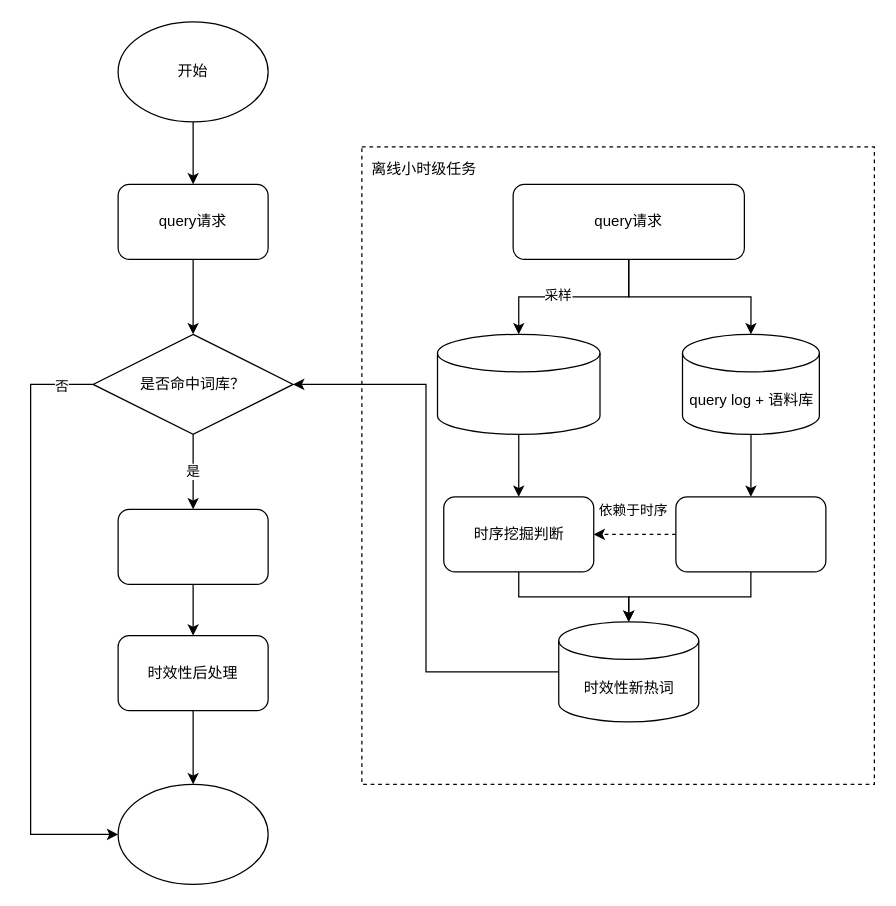
Image size: 896x906. Some labels were removed from this diagram. The shapes that lost their labels are listed below. From the top down, each one's centre as x and y in pixels, then its label:
At (518,383): "Redis {query+timestamp: count} {query set}".
At (192,546): "时效性通道".
At (750,534): "新热词发现，话题聚合".
At (192,833): "结束".
